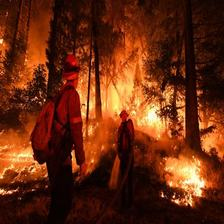fire: (147, 116, 217, 210), (2, 119, 54, 193), (98, 77, 165, 120)
